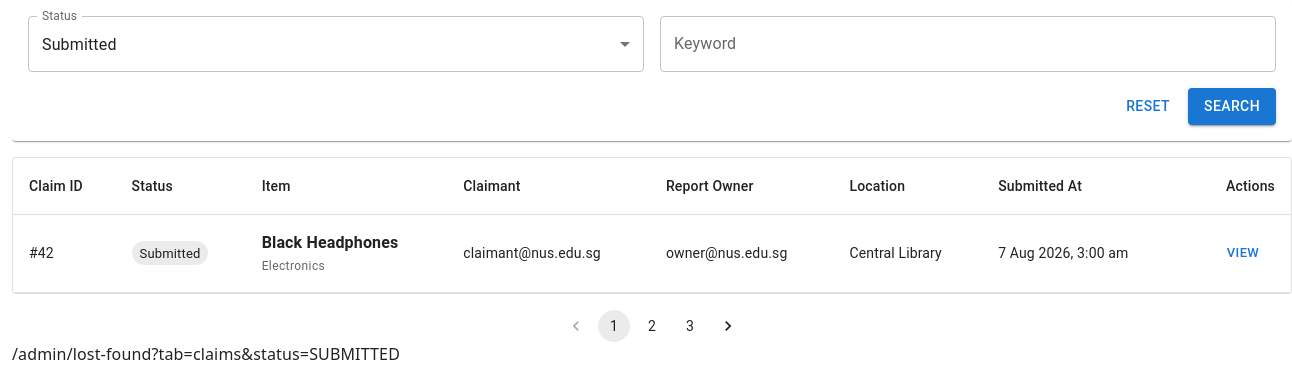
Test: AdminClaimsSection › converts MUI pagination to the Backend zero-based page
Check: the text "Black Headphones" is shown, box [262,232,398,252]
What coordinates should you click on to do the following:
click the button named "Go to page 2"
I would click on:
 (652, 326)
Its box is [636,310,668,342].
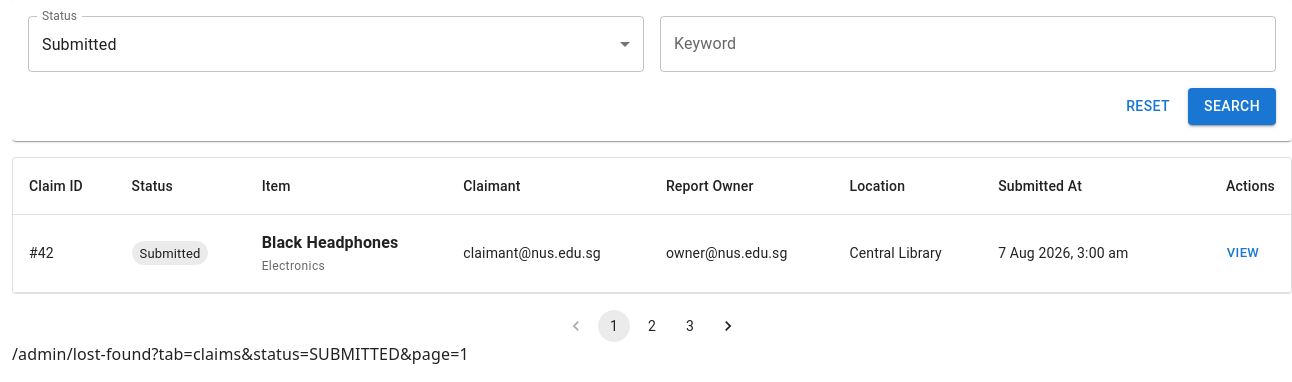
Check: the text named "Current location" shows "page=1", box [12,343,469,365]
